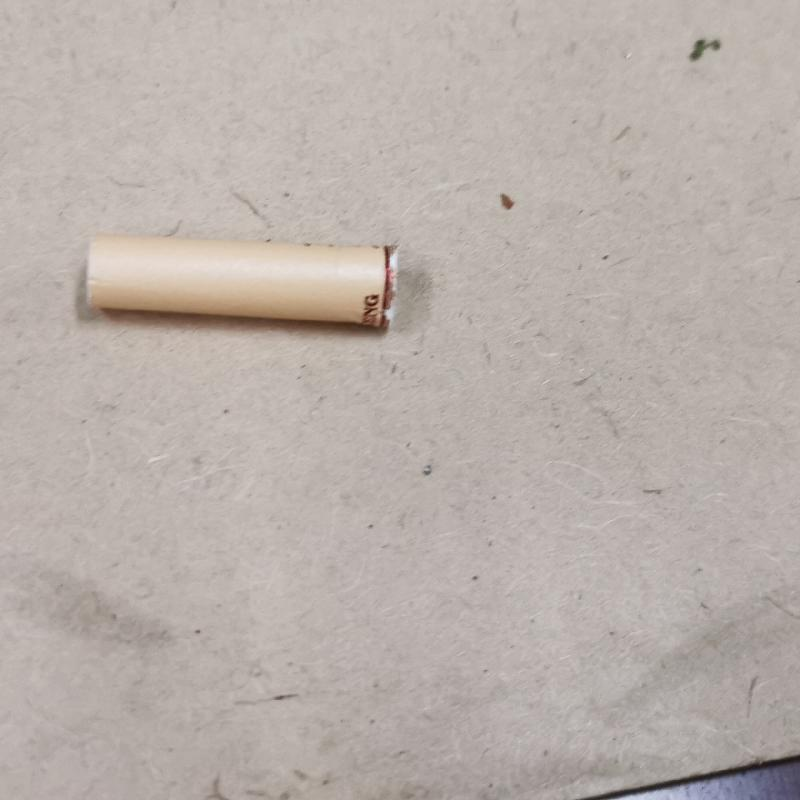cigarette: (81, 230, 401, 342)
